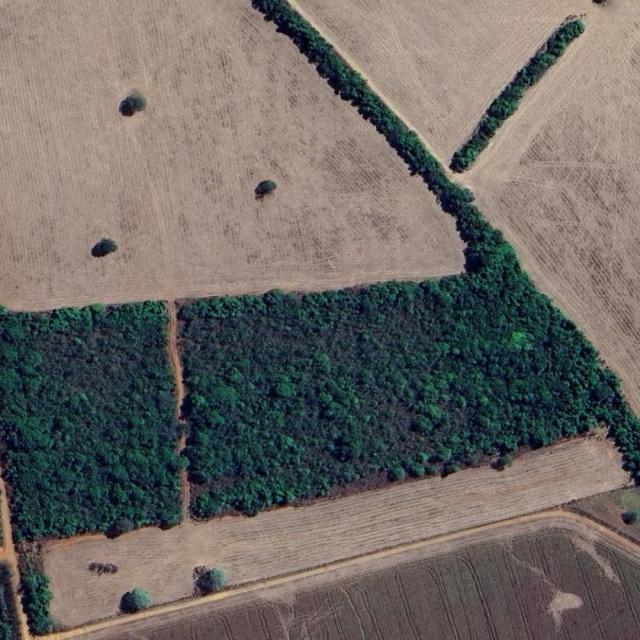noVegetation: (1, 0, 463, 309), (294, 0, 639, 407), (43, 430, 636, 640)
vegetation: (1, 0, 639, 540), (451, 19, 583, 170)
